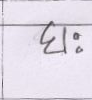anusvara: (74, 33, 79, 41)
